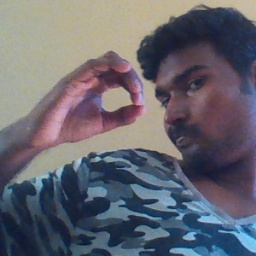O: (27, 49, 148, 145)
